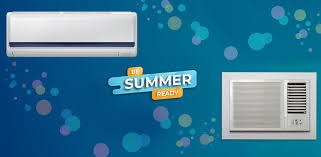ac: (5, 8, 138, 59)
